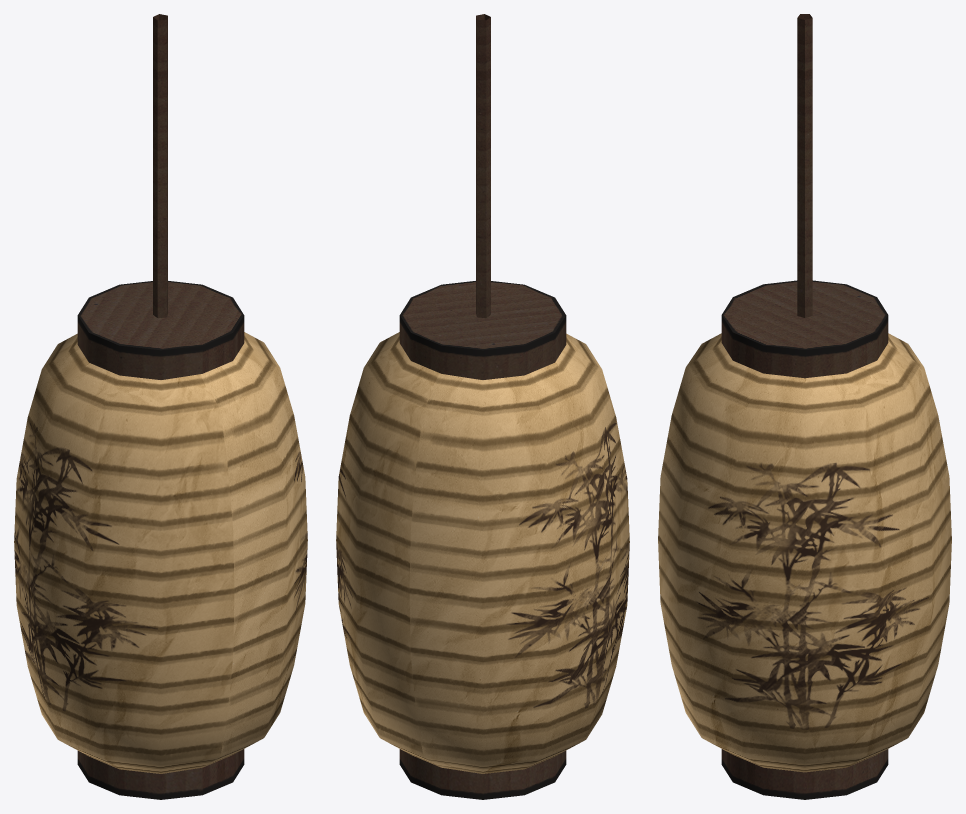
The model's file is TH_Lantern2.fbx.
3 views of the same model, side by side, from view 1: azimuth 30°, elevation 25°; view 2: azimuth 150°, elevation 25°; view 3: azimuth 270°, elevation 25° (orthographic).
Visible parts, largest first — view 1: polySurface3; view 2: polySurface3; view 3: polySurface3.
Boxes of the visible parts, bbox=[...] form: polySurface3: bbox=[14, 14, 307, 799]; polySurface3: bbox=[336, 14, 629, 799]; polySurface3: bbox=[658, 14, 951, 799].
Bounding box in the file's own units: 31.87 × 31.87 × 89.5.
